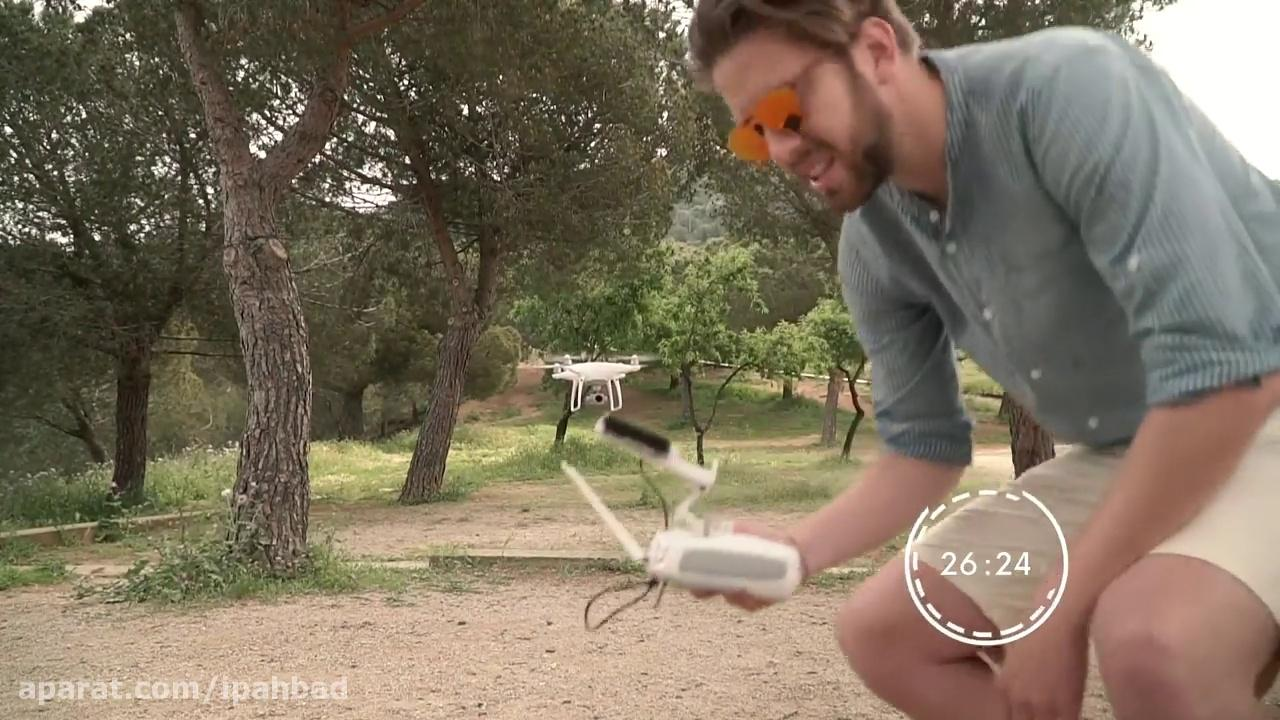drone: (518, 342, 669, 414)
